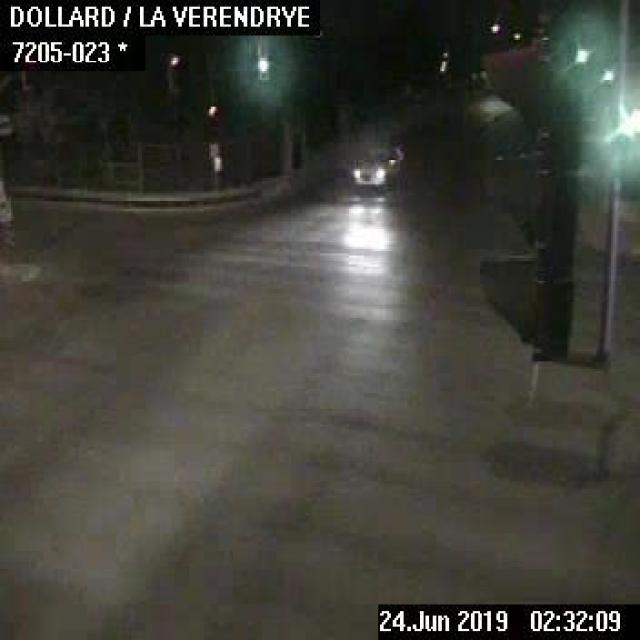vehicle: (347, 142, 409, 189)
